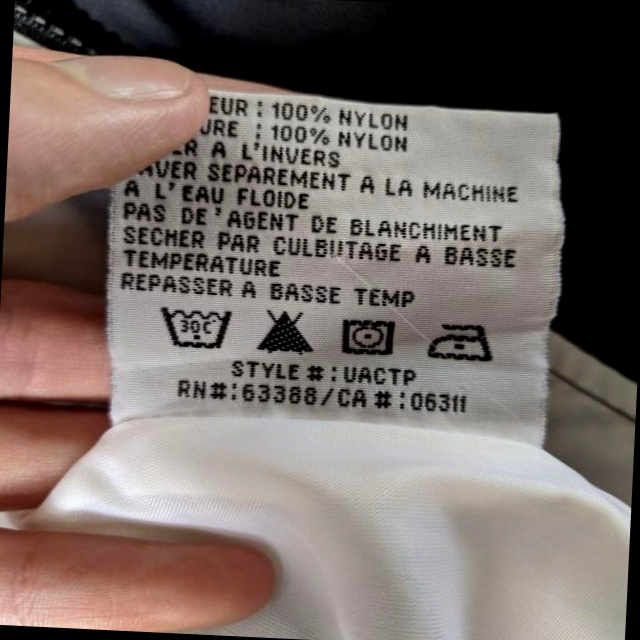30C: (161, 300, 239, 354)
DN_bleach: (254, 309, 317, 357)
iron_low: (427, 317, 495, 364)
tumble_dry_low: (338, 316, 402, 358)
